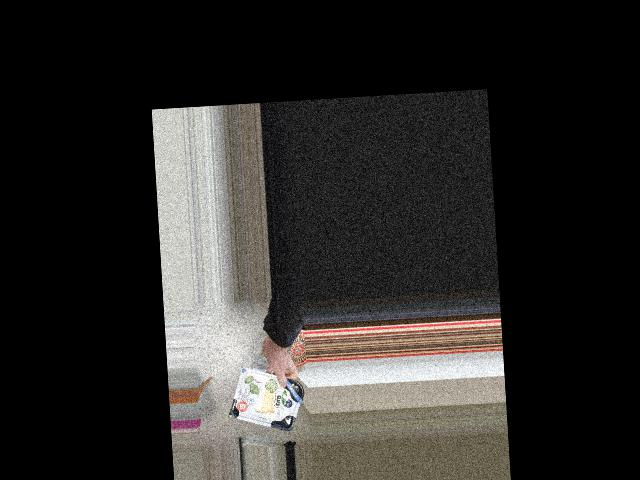cheese: (235, 374, 299, 424)
